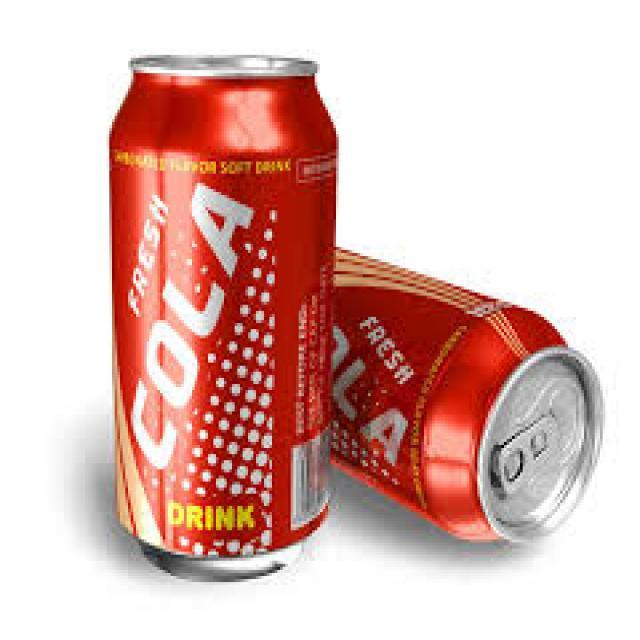recyclable: (109, 54, 340, 584), (333, 246, 606, 545)
